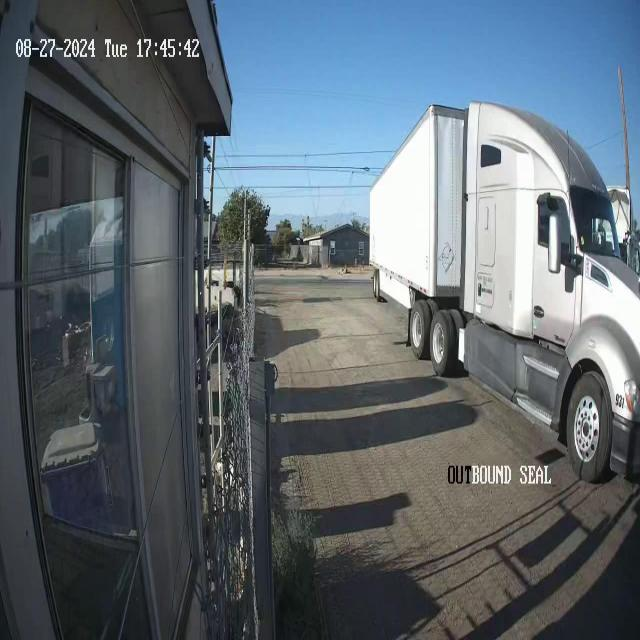TRUCK_IN: (368, 98, 640, 484)
